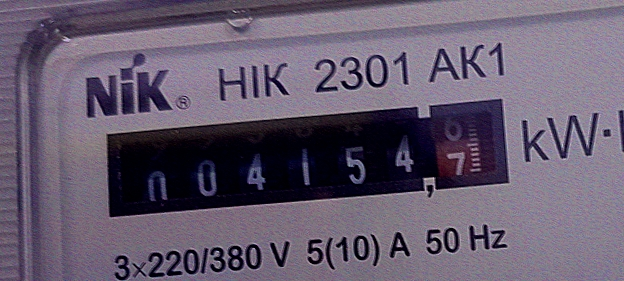0: (194, 155, 219, 198), (144, 165, 169, 201)
1: (297, 144, 314, 187)
4: (242, 150, 268, 193), (391, 129, 415, 175)
5: (342, 140, 370, 186)
6: (441, 111, 466, 142)
7: (444, 147, 467, 177)
screen: (86, 83, 527, 231)
